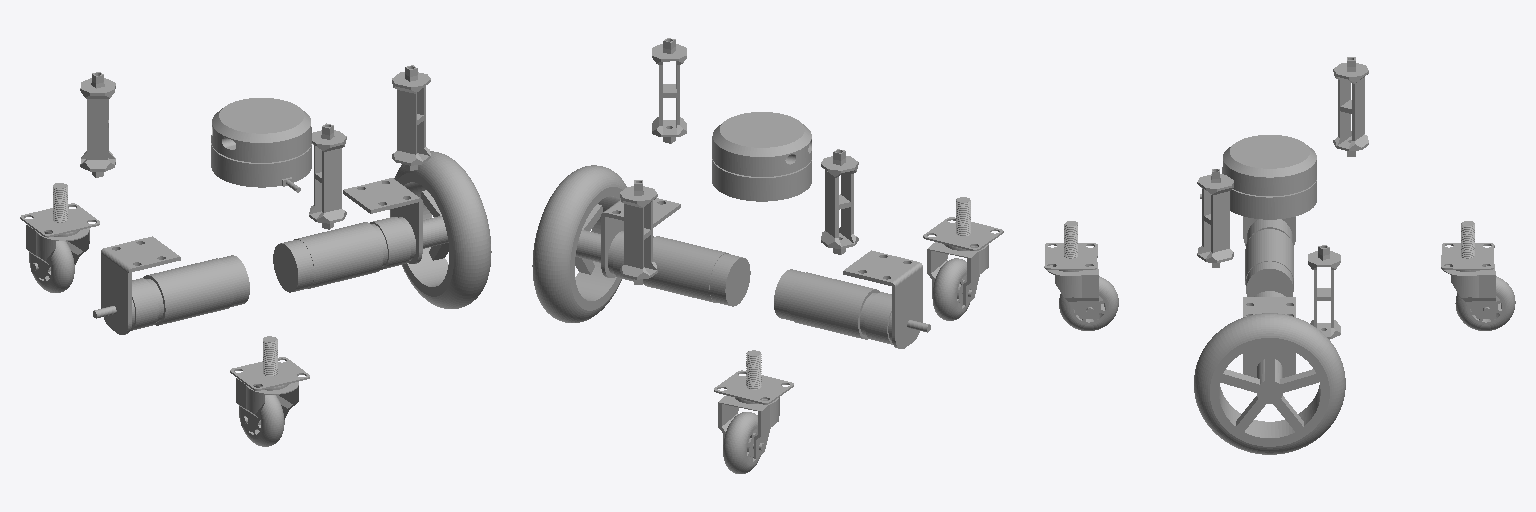
The robot description file, URDF, robot "XiAMS_V1":
<?xml version="1.0" ?>
<!-- =================================================================================== -->
<!-- |    This document was autogenerated by xacro from XiAMS_V1.xacro                 | -->
<!-- |    EDITING THIS FILE BY HAND IS NOT RECOMMENDED                                 | -->
<!-- =================================================================================== -->
<robot name="XiAMS_V1">
  <material name="silver">
    <color rgba="0.700 0.700 0.700 1.000"/>
  </material>
  <transmission name="Revolute 1_tran">
    <type>transmission_interface/SimpleTransmission</type>
    <joint name="Revolute 1">
      <hardwareInterface>hardware_interface/EffortJointInterface</hardwareInterface>
    </joint>
    <actuator name="Revolute 1_actr">
      <hardwareInterface>hardware_interface/EffortJointInterface</hardwareInterface>
      <mechanicalReduction>1</mechanicalReduction>
    </actuator>
  </transmission>
  <transmission name="Revolute 2_tran">
    <type>transmission_interface/SimpleTransmission</type>
    <joint name="Revolute 2">
      <hardwareInterface>hardware_interface/EffortJointInterface</hardwareInterface>
    </joint>
    <actuator name="Revolute 2_actr">
      <hardwareInterface>hardware_interface/EffortJointInterface</hardwareInterface>
      <mechanicalReduction>1</mechanicalReduction>
    </actuator>
  </transmission>
  <gazebo>
    <plugin filename="libgazebo_ros_control.so" name="control"/>
  </gazebo>
  <gazebo reference="base_link">
    <material>Gazebo/Silver</material>
    <mu1>0.2</mu1>
    <mu2>0.2</mu2>
    <selfCollide>true</selfCollide>
    <gravity>true</gravity>
  </gazebo>
  <gazebo reference="left_wheel_1">
    <material>Gazebo/Silver</material>
    <mu1>0.2</mu1>
    <mu2>0.2</mu2>
    <selfCollide>true</selfCollide>
  </gazebo>
  <gazebo reference="right_wheel_1">
    <material>Gazebo/Silver</material>
    <mu1>0.2</mu1>
    <mu2>0.2</mu2>
    <selfCollide>true</selfCollide>
  </gazebo>
  <gazebo reference="right_motor_1">
    <material>Gazebo/Silver</material>
    <mu1>0.2</mu1>
    <mu2>0.2</mu2>
    <selfCollide>true</selfCollide>
  </gazebo>
  <gazebo reference="left_motor_1">
    <material>Gazebo/Silver</material>
    <mu1>0.2</mu1>
    <mu2>0.2</mu2>
    <selfCollide>true</selfCollide>
  </gazebo>
  <gazebo reference="sup_wheel_2_1">
    <material>Gazebo/Silver</material>
    <mu1>0.2</mu1>
    <mu2>0.2</mu2>
    <selfCollide>true</selfCollide>
  </gazebo>
  <gazebo reference="sup_wheel_1_1">
    <material>Gazebo/Silver</material>
    <mu1>0.2</mu1>
    <mu2>0.2</mu2>
    <selfCollide>true</selfCollide>
  </gazebo>
  <gazebo reference="sup_wheel_3_1">
    <material>Gazebo/Silver</material>
    <mu1>0.2</mu1>
    <mu2>0.2</mu2>
    <selfCollide>true</selfCollide>
  </gazebo>
  <gazebo reference="sup_wheel_4_1">
    <material>Gazebo/Silver</material>
    <mu1>0.2</mu1>
    <mu2>0.2</mu2>
    <selfCollide>true</selfCollide>
  </gazebo>
  <gazebo reference="column_1_1">
    <material>Gazebo/Silver</material>
    <mu1>0.2</mu1>
    <mu2>0.2</mu2>
    <selfCollide>true</selfCollide>
  </gazebo>
  <gazebo reference="column_2_1">
    <material>Gazebo/Silver</material>
    <mu1>0.2</mu1>
    <mu2>0.2</mu2>
    <selfCollide>true</selfCollide>
  </gazebo>
  <gazebo reference="column_3_1">
    <material>Gazebo/Silver</material>
    <mu1>0.2</mu1>
    <mu2>0.2</mu2>
    <selfCollide>true</selfCollide>
  </gazebo>
  <gazebo reference="column_4_1">
    <material>Gazebo/Silver</material>
    <mu1>0.2</mu1>
    <mu2>0.2</mu2>
    <selfCollide>true</selfCollide>
  </gazebo>
  <gazebo reference="base_link2_1">
    <material>Gazebo/Silver</material>
    <mu1>0.2</mu1>
    <mu2>0.2</mu2>
    <selfCollide>true</selfCollide>
  </gazebo>
  <gazebo reference="column_5_1">
    <material>Gazebo/Silver</material>
    <mu1>0.2</mu1>
    <mu2>0.2</mu2>
    <selfCollide>true</selfCollide>
  </gazebo>
  <gazebo reference="column_6_1">
    <material>Gazebo/Silver</material>
    <mu1>0.2</mu1>
    <mu2>0.2</mu2>
    <selfCollide>true</selfCollide>
  </gazebo>
  <gazebo reference="column_7_1">
    <material>Gazebo/Silver</material>
    <mu1>0.2</mu1>
    <mu2>0.2</mu2>
    <selfCollide>true</selfCollide>
  </gazebo>
  <gazebo reference="column_8_1">
    <material>Gazebo/Silver</material>
    <mu1>0.2</mu1>
    <mu2>0.2</mu2>
    <selfCollide>true</selfCollide>
  </gazebo>
  <gazebo reference="base_link3_1">
    <material>Gazebo/Silver</material>
    <mu1>0.2</mu1>
    <mu2>0.2</mu2>
    <selfCollide>true</selfCollide>
  </gazebo>
  <gazebo reference="lidar_link_1">
    <material>Gazebo/Silver</material>
    <mu1>0.2</mu1>
    <mu2>0.2</mu2>
    <selfCollide>true</selfCollide>
  </gazebo>
  <link name="base_link">
    <inertial>
      <origin rpy="0 0 0" xyz="-1.2122057928679926e-16 -5.497357486465651e-05 0.010376885485705058"/>
      <mass value="7.067644900814269"/>
      <inertia ixx="0.093666" ixy="0.0" ixz="-0.0" iyy="0.075527" iyz="-0.0" izz="0.169042"/>
    </inertial>
    <visual>
      <origin rpy="0 0 0" xyz="0 0 0"/>
      <geometry>
        <mesh filename="package://xaims_bringup/meshes/base_link.stl" scale="0.001 0.001 0.001"/>
      </geometry>
      <material name="silver"/>
    </visual>
    <collision>
      <origin rpy="0 0 0" xyz="0 0 0"/>
      <geometry>
        <mesh filename="package://xaims_bringup/meshes/base_link.stl" scale="0.001 0.001 0.001"/>
      </geometry>
    </collision>
  </link>
  <link name="left_wheel_1">
    <inertial>
      <origin rpy="0 0 0" xyz="-0.010316984778108496 -2.131945403625303e-15 1.734723475976807e-17"/>
      <mass value="1.2911020276896104"/>
      <inertia ixx="0.002581" ixy="0.0" ixz="0.0" iyy="0.001382" iyz="0.0" izz="0.001382"/>
    </inertial>
    <visual>
      <origin rpy="0 0 0" xyz="0.1379 -0.0 -0.004"/>
      <geometry>
        <mesh filename="package://xaims_bringup/meshes/left_wheel_1.stl" scale="0.001 0.001 0.001"/>
      </geometry>
      <material name="silver"/>
    </visual>
    <collision>
      <origin rpy="0 0 0" xyz="0.1379 -0.0 -0.004"/>
      <geometry>
        <mesh filename="package://xaims_bringup/meshes/left_wheel_1.stl" scale="0.001 0.001 0.001"/>
      </geometry>
    </collision>
  </link>
  <link name="right_wheel_1">
    <inertial>
      <origin rpy="0 0 0" xyz="0.010316984778108551 2.16747250653199e-15 3.729655473350135e-17"/>
      <mass value="1.2911020276896104"/>
      <inertia ixx="0.002581" ixy="0.0" ixz="-0.0" iyy="0.001382" iyz="-0.0" izz="0.001382"/>
    </inertial>
    <visual>
      <origin rpy="0 0 0" xyz="-0.1379 -0.0 -0.004"/>
      <geometry>
        <mesh filename="package://xaims_bringup/meshes/right_wheel_1.stl" scale="0.001 0.001 0.001"/>
      </geometry>
      <material name="silver"/>
    </visual>
    <collision>
      <origin rpy="0 0 0" xyz="-0.1379 -0.0 -0.004"/>
      <geometry>
        <mesh filename="package://xaims_bringup/meshes/right_wheel_1.stl" scale="0.001 0.001 0.001"/>
      </geometry>
    </collision>
  </link>
  <link name="right_motor_1">
    <inertial>
      <origin rpy="0 0 0" xyz="0.06241474724398801 -1.1016991190206776e-06 -0.003760243066514766"/>
      <mass value="0.8778384692401996"/>
      <inertia ixx="0.000207" ixy="0.0" ixz="-6.5e-05" iyy="0.000915" iyz="0.0" izz="0.000858"/>
    </inertial>
    <visual>
      <origin rpy="0 0 0" xyz="-0.01 -0.0 -0.01"/>
      <geometry>
        <mesh filename="package://xaims_bringup/meshes/right_motor_1.stl" scale="0.001 0.001 0.001"/>
      </geometry>
      <material name="silver"/>
    </visual>
    <collision>
      <origin rpy="0 0 0" xyz="-0.01 -0.0 -0.01"/>
      <geometry>
        <mesh filename="package://xaims_bringup/meshes/right_motor_1.stl" scale="0.001 0.001 0.001"/>
      </geometry>
    </collision>
  </link>
  <link name="left_motor_1">
    <inertial>
      <origin rpy="0 0 0" xyz="-0.062414747243987996 1.101699119055656e-06 -0.003760243066514766"/>
      <mass value="0.8778384692401996"/>
      <inertia ixx="0.000207" ixy="0.0" ixz="6.5e-05" iyy="0.000915" iyz="-0.0" izz="0.000858"/>
    </inertial>
    <visual>
      <origin rpy="0 0 0" xyz="0.01 -0.0 -0.01"/>
      <geometry>
        <mesh filename="package://xaims_bringup/meshes/left_motor_1.stl" scale="0.001 0.001 0.001"/>
      </geometry>
      <material name="silver"/>
    </visual>
    <collision>
      <origin rpy="0 0 0" xyz="0.01 -0.0 -0.01"/>
      <geometry>
        <mesh filename="package://xaims_bringup/meshes/left_motor_1.stl" scale="0.001 0.001 0.001"/>
      </geometry>
    </collision>
  </link>
  <link name="sup_wheel_2_1">
    <inertial>
      <origin rpy="0 0 0" xyz="0.00724739238935411 -0.010120109660515852 -0.02715206764557417"/>
      <mass value="0.2827684462745871"/>
      <inertia ixx="0.000143" ixy="0.0" ixz="1e-06" iyy="0.000126" iyz="2.7e-05" izz="5.7e-05"/>
    </inertial>
    <visual>
      <origin rpy="0 0 0" xyz="-0.073333 -0.168856 -0.005"/>
      <geometry>
        <mesh filename="package://xaims_bringup/meshes/sup_wheel_2_1.stl" scale="0.001 0.001 0.001"/>
      </geometry>
      <material name="silver"/>
    </visual>
    <collision>
      <origin rpy="0 0 0" xyz="-0.073333 -0.168856 -0.005"/>
      <geometry>
        <mesh filename="package://xaims_bringup/meshes/sup_wheel_2_1.stl" scale="0.001 0.001 0.001"/>
      </geometry>
    </collision>
  </link>
  <link name="sup_wheel_1_1">
    <inertial>
      <origin rpy="0 0 0" xyz="0.02039356631856591 0.004831947677011422 -0.027152067645574162"/>
      <mass value="0.2827684462745871"/>
      <inertia ixx="0.000143" ixy="0.0" ixz="1e-06" iyy="0.000126" iyz="2.7e-05" izz="5.7e-05"/>
    </inertial>
    <visual>
      <origin rpy="0 0 0" xyz="0.099579 -0.154083 -0.005"/>
      <geometry>
        <mesh filename="package://xaims_bringup/meshes/sup_wheel_1_1.stl" scale="0.001 0.001 0.001"/>
      </geometry>
      <material name="silver"/>
    </visual>
    <collision>
      <origin rpy="0 0 0" xyz="0.099579 -0.154083 -0.005"/>
      <geometry>
        <mesh filename="package://xaims_bringup/meshes/sup_wheel_1_1.stl" scale="0.001 0.001 0.001"/>
      </geometry>
    </collision>
  </link>
  <link name="sup_wheel_3_1">
    <inertial>
      <origin rpy="0 0 0" xyz="0.000862792672768703 0.008679037903527004 -0.02715206764557417"/>
      <mass value="0.2827684462745871"/>
      <inertia ixx="0.000143" ixy="0.0" ixz="1e-06" iyy="0.000126" iyz="2.7e-05" izz="5.7e-05"/>
    </inertial>
    <visual>
      <origin rpy="0 0 0" xyz="0.08 0.15 -0.005"/>
      <geometry>
        <mesh filename="package://xaims_bringup/meshes/sup_wheel_3_1.stl" scale="0.001 0.001 0.001"/>
      </geometry>
      <material name="silver"/>
    </visual>
    <collision>
      <origin rpy="0 0 0" xyz="0.08 0.15 -0.005"/>
      <geometry>
        <mesh filename="package://xaims_bringup/meshes/sup_wheel_3_1.stl" scale="0.001 0.001 0.001"/>
      </geometry>
    </collision>
  </link>
  <link name="sup_wheel_4_1">
    <inertial>
      <origin rpy="0 0 0" xyz="0.000716440208126376 0.009226546426515103 -0.02715206764557417"/>
      <mass value="0.2827684462745871"/>
      <inertia ixx="0.000143" ixy="0.0" ixz="1e-06" iyy="0.000126" iyz="2.7e-05" izz="5.7e-05"/>
    </inertial>
    <visual>
      <origin rpy="0 0 0" xyz="-0.08 0.15 -0.005"/>
      <geometry>
        <mesh filename="package://xaims_bringup/meshes/sup_wheel_4_1.stl" scale="0.001 0.001 0.001"/>
      </geometry>
      <material name="silver"/>
    </visual>
    <collision>
      <origin rpy="0 0 0" xyz="-0.08 0.15 -0.005"/>
      <geometry>
        <mesh filename="package://xaims_bringup/meshes/sup_wheel_4_1.stl" scale="0.001 0.001 0.001"/>
      </geometry>
    </collision>
  </link>
  <link name="column_1_1">
    <inertial>
      <origin rpy="0 0 0" xyz="0.005150943149875242 0.00029975860448801933 0.032999999999999814"/>
      <mass value="0.06713817165430098"/>
      <inertia ixx="3.8e-05" ixy="-0.0" ixz="0.0" iyy="3.7e-05" iyz="-0.0" izz="5e-06"/>
    </inertial>
    <visual>
      <origin rpy="0 0 0" xyz="-0.073333 0.041053 -0.015"/>
      <geometry>
        <mesh filename="package://xaims_bringup/meshes/column_1_1.stl" scale="0.001 0.001 0.001"/>
      </geometry>
      <material name="silver"/>
    </visual>
    <collision>
      <origin rpy="0 0 0" xyz="-0.073333 0.041053 -0.015"/>
      <geometry>
        <mesh filename="package://xaims_bringup/meshes/column_1_1.stl" scale="0.001 0.001 0.001"/>
      </geometry>
    </collision>
  </link>
  <link name="column_2_1">
    <inertial>
      <origin rpy="0 0 0" xyz="-0.006043277250849216 0.00017198325512216006 0.030999999999999812"/>
      <mass value="0.06713817165430098"/>
      <inertia ixx="3.8e-05" ixy="-0.0" ixz="0.0" iyy="3.7e-05" iyz="-0.0" izz="5e-06"/>
    </inertial>
    <visual>
      <origin rpy="0 0 0" xyz="0.073333 0.041053 -0.015"/>
      <geometry>
        <mesh filename="package://xaims_bringup/meshes/column_2_1.stl" scale="0.001 0.001 0.001"/>
      </geometry>
      <material name="silver"/>
    </visual>
    <collision>
      <origin rpy="0 0 0" xyz="0.073333 0.041053 -0.015"/>
      <geometry>
        <mesh filename="package://xaims_bringup/meshes/column_2_1.stl" scale="0.001 0.001 0.001"/>
      </geometry>
    </collision>
  </link>
  <link name="column_3_1">
    <inertial>
      <origin rpy="0 0 0" xyz="-1.0459630267536935e-05 -0.015181423914343836 0.030999999999999812"/>
      <mass value="0.06713817165430098"/>
      <inertia ixx="3.8e-05" ixy="0.0" ixz="0.0" iyy="3.7e-05" iyz="-0.0" izz="5e-06"/>
    </inertial>
    <visual>
      <origin rpy="0 0 0" xyz="0.078889 -0.056316 -0.015"/>
      <geometry>
        <mesh filename="package://xaims_bringup/meshes/column_3_1.stl" scale="0.001 0.001 0.001"/>
      </geometry>
      <material name="silver"/>
    </visual>
    <collision>
      <origin rpy="0 0 0" xyz="0.078889 -0.056316 -0.015"/>
      <geometry>
        <mesh filename="package://xaims_bringup/meshes/column_3_1.stl" scale="0.001 0.001 0.001"/>
      </geometry>
    </collision>
  </link>
  <link name="column_4_1">
    <inertial>
      <origin rpy="0 0 0" xyz="-0.005999555555578892 -3.684210526447296e-07 0.030999999999999812"/>
      <mass value="0.06713817165430098"/>
      <inertia ixx="3.8e-05" ixy="-0.0" ixz="0.0" iyy="3.7e-05" iyz="-0.0" izz="5e-06"/>
    </inertial>
    <visual>
      <origin rpy="0 0 0" xyz="-0.084444 -0.041053 -0.015"/>
      <geometry>
        <mesh filename="package://xaims_bringup/meshes/column_4_1.stl" scale="0.001 0.001 0.001"/>
      </geometry>
      <material name="silver"/>
    </visual>
    <collision>
      <origin rpy="0 0 0" xyz="-0.084444 -0.041053 -0.015"/>
      <geometry>
        <mesh filename="package://xaims_bringup/meshes/column_4_1.stl" scale="0.001 0.001 0.001"/>
      </geometry>
    </collision>
  </link>
  <link name="base_link2_1">
    <inertial>
      <origin rpy="0 0 0" xyz="1.5416149327040268e-06 -7.385320557817198e-08 0.0644033025552961"/>
      <mass value="6.703012617628762"/>
      <inertia ixx="0.045857" ixy="0.0" ixz="0.0" iyy="0.040773" iyz="-0.0" izz="0.085176"/>
    </inertial>
    <visual>
      <origin rpy="0 0 0" xyz="-0.0 -0.0 -0.015"/>
      <geometry>
        <mesh filename="package://xaims_bringup/meshes/base_link2_1.stl" scale="0.001 0.001 0.001"/>
      </geometry>
      <material name="silver"/>
    </visual>
    <collision>
      <origin rpy="0 0 0" xyz="-0.0 -0.0 -0.015"/>
      <geometry>
        <mesh filename="package://xaims_bringup/meshes/base_link2_1.stl" scale="0.001 0.001 0.001"/>
      </geometry>
    </collision>
  </link>
  <link name="column_5_1">
    <inertial>
      <origin rpy="0 0 0" xyz="0.048050222222234255 0.0002503684210331328 -0.04300000000000004"/>
      <mass value="0.06861920498763414"/>
      <inertia ixx="3.8e-05" ixy="-0.0" ixz="0.0" iyy="3.9e-05" iyz="0.0" izz="5e-06"/>
    </inertial>
    <visual>
      <origin rpy="0 0 0" xyz="-0.052222 0.041053 -0.163"/>
      <geometry>
        <mesh filename="package://xaims_bringup/meshes/column_5_1.stl" scale="0.001 0.001 0.001"/>
      </geometry>
      <material name="silver"/>
    </visual>
    <collision>
      <origin rpy="0 0 0" xyz="-0.052222 0.041053 -0.163"/>
      <geometry>
        <mesh filename="package://xaims_bringup/meshes/column_5_1.stl" scale="0.001 0.001 0.001"/>
      </geometry>
    </collision>
  </link>
  <link name="column_6_1">
    <inertial>
      <origin rpy="0 0 0" xyz="-0.0424497777777972 -0.00490047368422257 -0.04300000000000004"/>
      <mass value="0.06861920498763414"/>
      <inertia ixx="3.9e-05" ixy="0.0" ixz="0.0" iyy="3.8e-05" iyz="-0.0" izz="5e-06"/>
    </inertial>
    <visual>
      <origin rpy="0 0 0" xyz="0.057778 0.035789 -0.163"/>
      <geometry>
        <mesh filename="package://xaims_bringup/meshes/column_6_1.stl" scale="0.001 0.001 0.001"/>
      </geometry>
      <material name="silver"/>
    </visual>
    <collision>
      <origin rpy="0 0 0" xyz="0.057778 0.035789 -0.163"/>
      <geometry>
        <mesh filename="package://xaims_bringup/meshes/column_6_1.stl" scale="0.001 0.001 0.001"/>
      </geometry>
    </collision>
  </link>
  <link name="column_7_1">
    <inertial>
      <origin rpy="0 0 0" xyz="0.042514934933003394 0.015040063199609752 -0.043000000000000094"/>
      <mass value="0.06713817165430098"/>
      <inertia ixx="3.7e-05" ixy="0.0" ixz="0.0" iyy="3.7e-05" iyz="-0.0" izz="5e-06"/>
    </inertial>
    <visual>
      <origin rpy="0 0 0" xyz="-0.057778 -0.046316 -0.163"/>
      <geometry>
        <mesh filename="package://xaims_bringup/meshes/column_7_1.stl" scale="0.001 0.001 0.001"/>
      </geometry>
      <material name="silver"/>
    </visual>
    <collision>
      <origin rpy="0 0 0" xyz="-0.057778 -0.046316 -0.163"/>
      <geometry>
        <mesh filename="package://xaims_bringup/meshes/column_7_1.stl" scale="0.001 0.001 0.001"/>
      </geometry>
    </collision>
  </link>
  <link name="column_8_1">
    <inertial>
      <origin rpy="0 0 0" xyz="-0.03628574207457701 6.19714320574602e-05 -0.043000000000000094"/>
      <mass value="0.06713817165430098"/>
      <inertia ixx="3.7e-05" ixy="-0.0" ixz="0.0" iyy="3.7e-05" iyz="-0.0" izz="5e-06"/>
    </inertial>
    <visual>
      <origin rpy="0 0 0" xyz="0.063333 -0.061579 -0.163"/>
      <geometry>
        <mesh filename="package://xaims_bringup/meshes/column_8_1.stl" scale="0.001 0.001 0.001"/>
      </geometry>
      <material name="silver"/>
    </visual>
    <collision>
      <origin rpy="0 0 0" xyz="0.063333 -0.061579 -0.163"/>
      <geometry>
        <mesh filename="package://xaims_bringup/meshes/column_8_1.stl" scale="0.001 0.001 0.001"/>
      </geometry>
    </collision>
  </link>
  <link name="base_link3_1">
    <inertial>
      <origin rpy="0 0 0" xyz="0.0 4.0481340199487946e-17 -0.006999999999999923"/>
      <mass value="3.142708479532165"/>
      <inertia ixx="0.014068" ixy="0.0" ixz="0.0" iyy="0.01405" iyz="-0.0" izz="0.028066"/>
    </inertial>
    <visual>
      <origin rpy="0 0 0" xyz="-0.0 0.0 -0.163"/>
      <geometry>
        <mesh filename="package://xaims_bringup/meshes/base_link3_1.stl" scale="0.001 0.001 0.001"/>
      </geometry>
      <material name="silver"/>
    </visual>
    <collision>
      <origin rpy="0 0 0" xyz="-0.0 0.0 -0.163"/>
      <geometry>
        <mesh filename="package://xaims_bringup/meshes/base_link3_1.stl" scale="0.001 0.001 0.001"/>
      </geometry>
    </collision>
  </link>
  <link name="lidar_link_1">
    <inertial>
      <origin rpy="0 0 0" xyz="0.00027795145072157185 -3.487106368435207e-05 0.019472184630013295"/>
      <mass value="1.2342397492534263"/>
      <inertia ixx="0.000557" ixy="1e-06" ixz="-4e-06" iyy="0.000545" iyz="-2e-06" izz="0.000781"/>
    </inertial>
    <visual>
      <origin rpy="0 0 0" xyz="-0.0 -0.0 -0.089"/>
      <geometry>
        <mesh filename="package://xaims_bringup/meshes/lidar_link_1.stl" scale="0.001 0.001 0.001"/>
      </geometry>
      <material name="silver"/>
    </visual>
    <collision>
      <origin rpy="0 0 0" xyz="-0.0 -0.0 -0.089"/>
      <geometry>
        <mesh filename="package://xaims_bringup/meshes/lidar_link_1.stl" scale="0.001 0.001 0.001"/>
      </geometry>
    </collision>
  </link>
  <joint name="Revolute 1" type="continuous">
    <origin rpy="0 0 0" xyz="-0.1279 0.0 -0.006"/>
    <parent link="left_motor_1"/>
    <child link="left_wheel_1"/>
    <axis xyz="-1.0 0.0 0.0"/>
  </joint>
  <joint name="Revolute 2" type="continuous">
    <origin rpy="0 0 0" xyz="0.1279 0.0 -0.006"/>
    <parent link="right_motor_1"/>
    <child link="right_wheel_1"/>
    <axis xyz="1.0 0.0 0.0"/>
  </joint>
  <joint name="Rigid 3" type="fixed">
    <origin rpy="0 0 0" xyz="0.01 0.0 0.01"/>
    <parent link="base_link"/>
    <child link="right_motor_1"/>
  </joint>
  <joint name="Rigid 4" type="fixed">
    <origin rpy="0 0 0" xyz="-0.01 0.0 0.01"/>
    <parent link="base_link"/>
    <child link="left_motor_1"/>
  </joint>
  <joint name="Rigid 6" type="fixed">
    <origin rpy="0 0 0" xyz="0.073333 0.168856 0.005"/>
    <parent link="base_link"/>
    <child link="sup_wheel_2_1"/>
  </joint>
  <joint name="Rigid 7" type="fixed">
    <origin rpy="0 0 0" xyz="-0.099579 0.154083 0.005"/>
    <parent link="base_link"/>
    <child link="sup_wheel_1_1"/>
  </joint>
  <joint name="Rigid 8" type="fixed">
    <origin rpy="0 0 0" xyz="-0.08 -0.15 0.005"/>
    <parent link="base_link"/>
    <child link="sup_wheel_3_1"/>
  </joint>
  <joint name="Rigid 9" type="fixed">
    <origin rpy="0 0 0" xyz="0.08 -0.15 0.005"/>
    <parent link="base_link"/>
    <child link="sup_wheel_4_1"/>
  </joint>
  <joint name="Rigid 11" type="fixed">
    <origin rpy="0 0 0" xyz="0.073333 -0.041053 0.015"/>
    <parent link="base_link"/>
    <child link="column_1_1"/>
  </joint>
  <joint name="Rigid 12" type="fixed">
    <origin rpy="0 0 0" xyz="-0.073333 -0.041053 0.015"/>
    <parent link="base_link"/>
    <child link="column_2_1"/>
  </joint>
  <joint name="Rigid 13" type="fixed">
    <origin rpy="0 0 0" xyz="-0.078889 0.056316 0.015"/>
    <parent link="base_link"/>
    <child link="column_3_1"/>
  </joint>
  <joint name="Rigid 15" type="fixed">
    <origin rpy="0 0 0" xyz="0.084444 0.041053 0.015"/>
    <parent link="base_link"/>
    <child link="column_4_1"/>
  </joint>
  <joint name="Rigid 16" type="fixed">
    <origin rpy="0 0 0" xyz="0.0 0.0 0.015"/>
    <parent link="base_link"/>
    <child link="base_link2_1"/>
  </joint>
  <joint name="Rigid 17" type="fixed">
    <origin rpy="0 0 0" xyz="0.052222 -0.041053 0.148"/>
    <parent link="base_link2_1"/>
    <child link="column_5_1"/>
  </joint>
  <joint name="Rigid 18" type="fixed">
    <origin rpy="0 0 0" xyz="-0.057778 -0.035789 0.148"/>
    <parent link="base_link2_1"/>
    <child link="column_6_1"/>
  </joint>
  <joint name="Rigid 19" type="fixed">
    <origin rpy="0 0 0" xyz="0.057778 0.046316 0.148"/>
    <parent link="base_link2_1"/>
    <child link="column_7_1"/>
  </joint>
  <joint name="Rigid 20" type="fixed">
    <origin rpy="0 0 0" xyz="-0.063333 0.061579 0.148"/>
    <parent link="base_link2_1"/>
    <child link="column_8_1"/>
  </joint>
  <joint name="Rigid 21" type="fixed">
    <origin rpy="0 0 0" xyz="0.0 -0.0 0.148"/>
    <parent link="base_link2_1"/>
    <child link="base_link3_1"/>
  </joint>
  <joint name="Rigid 22" type="fixed">
    <origin rpy="0 0 0" xyz="0.0 0.0 0.074"/>
    <parent link="base_link2_1"/>
    <child link="lidar_link_1"/>
  </joint>
</robot>

--- What the picture shows (computed from the rendered views, not written in the file) ---
The picture shows the robot from 3 angles, left to right: view 1: azimuth 30°, elevation 25°; view 2: azimuth 150°, elevation 25°; view 3: azimuth 270°, elevation 25°; orthographic projection.
Model XiAMS_V1 with 20 links and 19 joints (2 continuous, 17 fixed), rooted at base_link, posed every joint at zero.
Links seen in each view (by area): view 1: left_motor_1, right_wheel_1, right_motor_1, lidar_link_1, sup_wheel_1_1, sup_wheel_3_1, column_5_1, column_4_1, column_8_1; view 2: right_wheel_1, left_motor_1, lidar_link_1, right_motor_1, sup_wheel_3_1, sup_wheel_1_1, column_4_1, column_8_1, column_5_1; view 3: right_wheel_1, lidar_link_1, sup_wheel_1_1, sup_wheel_3_1, left_motor_1, column_5_1, column_8_1, right_motor_1, column_4_1.
Link boxes in pixels (x1,y1,x2,y2): left_motor_1: (93,236,249,334); right_wheel_1: (390,151,491,308); right_motor_1: (273,178,422,292); lidar_link_1: (211,98,311,192); sup_wheel_1_1: (20,183,99,292); sup_wheel_3_1: (230,336,309,446); column_5_1: (392,65,430,170); column_4_1: (309,123,346,229); column_8_1: (80,72,115,177); right_wheel_1: (532,165,626,322); left_motor_1: (774,250,930,348); lidar_link_1: (712,112,811,201); right_motor_1: (601,198,750,306); sup_wheel_3_1: (923,197,1003,320); sup_wheel_1_1: (714,350,793,473); column_4_1: (620,180,657,284); column_8_1: (821,149,858,254); column_5_1: (652,38,686,143); right_wheel_1: (1194,313,1345,454); lidar_link_1: (1200,135,1316,219); sup_wheel_1_1: (1441,221,1515,330); sup_wheel_3_1: (1044,221,1118,330); left_motor_1: (1243,216,1295,296); column_5_1: (1197,169,1233,267); column_8_1: (1333,57,1368,156); right_motor_1: (1243,291,1295,377); column_4_1: (1308,245,1340,339).
Size in the robot's own frame: 0.3008 by 0.3565 by 0.2169 metres.
Meshes: 20 distinct files referenced, 9 mesh visuals loaded (9 binary STL); not drawn: 11 (file found but could not be loaded).